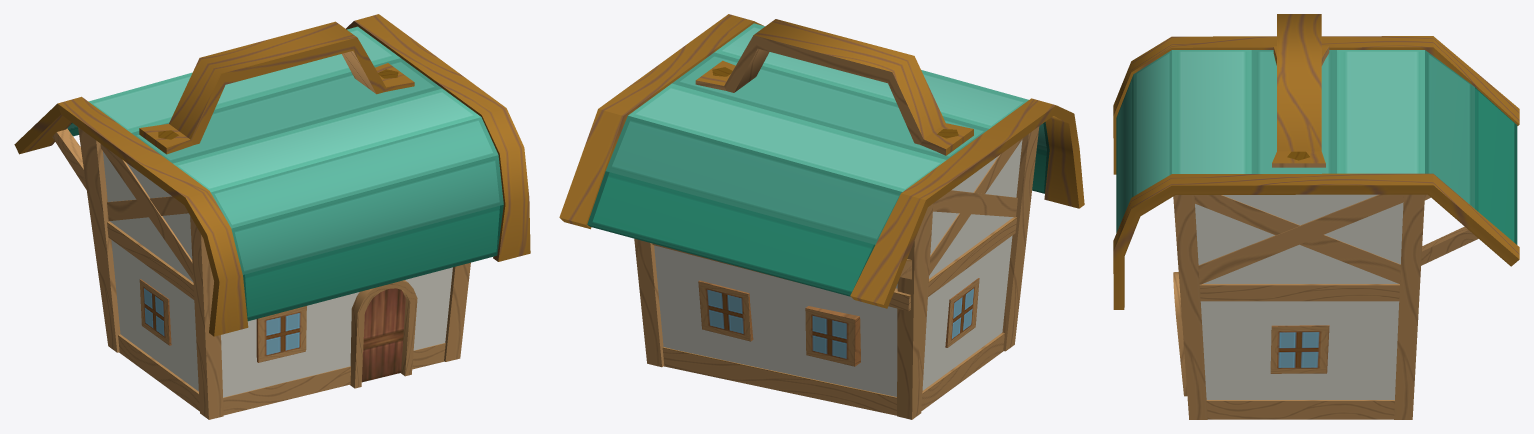
The model's file is building_variety_lv1.FBX.
3 views of the same model, side by side, from view 1: azimuth 30°, elevation 25°; view 2: azimuth 150°, elevation 25°; view 3: azimuth 270°, elevation 25° (orthographic). The views are drawn at different scales.
Visible parts, largest first — view 1: building_variety_main_lv1, building_variety_lv1; view 2: building_variety_main_lv1, building_variety_lv1; view 3: building_variety_main_lv1, building_variety_lv1.
Boxes of the visible parts, <box> form: building_variety_main_lv1: <box>67,26,503,397</box>; building_variety_lv1: <box>14,14,530,419</box>; building_variety_main_lv1: <box>587,23,1049,396</box>; building_variety_lv1: <box>559,14,1084,419</box>; building_variety_main_lv1: <box>1116,50,1517,399</box>; building_variety_lv1: <box>1113,14,1519,419</box>.
Bounding box in the file's own units: 331 × 301 × 354.
